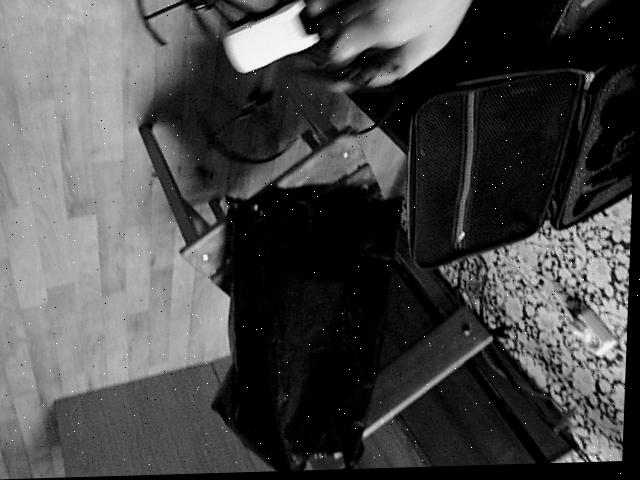drone: (122, 0, 425, 181)
